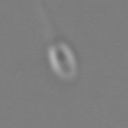normal: (33, 1, 56, 42)
